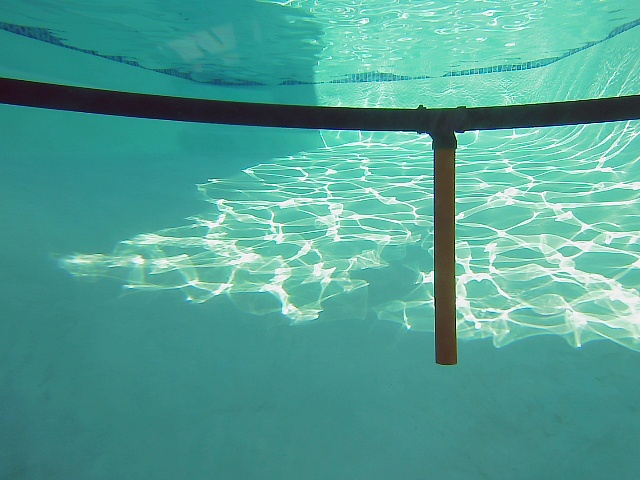Gate: (430, 144, 461, 366)
